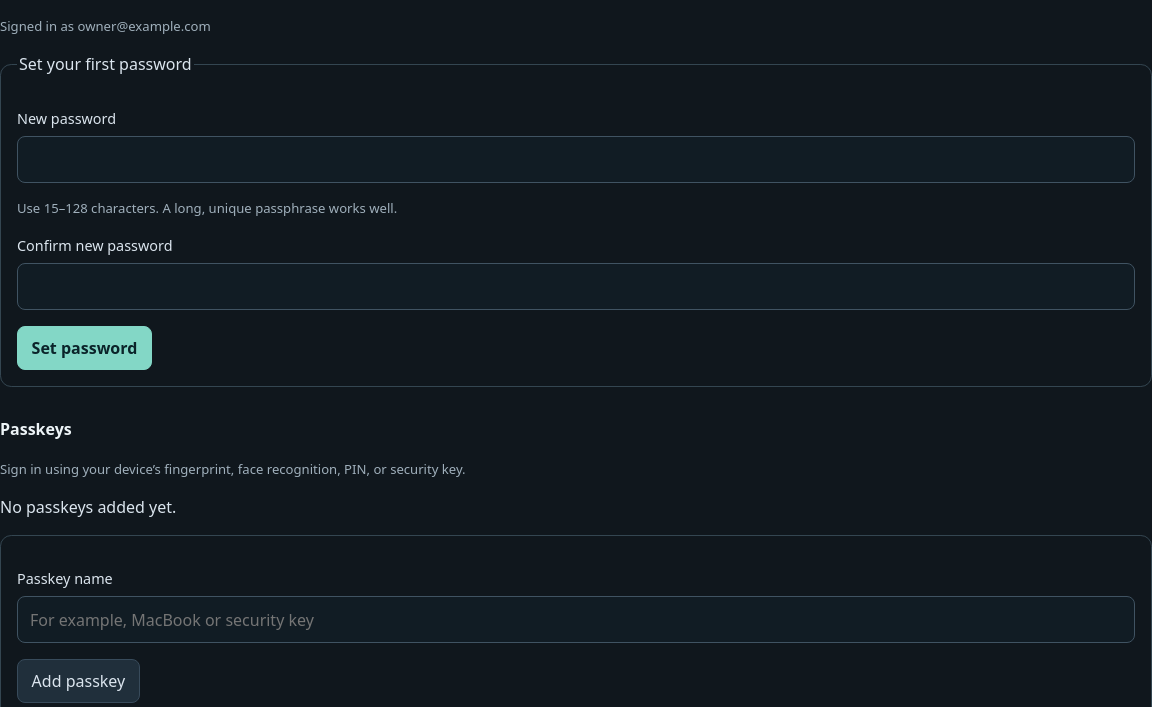
it: account security › checks freshness immediately before invoking the browser's passkey enrollment
(page scrolled)
Type "MacBook" into the field labelled "Passkey name".
click(576, 620); type("MacBook")  # box [17,596,1135,643]
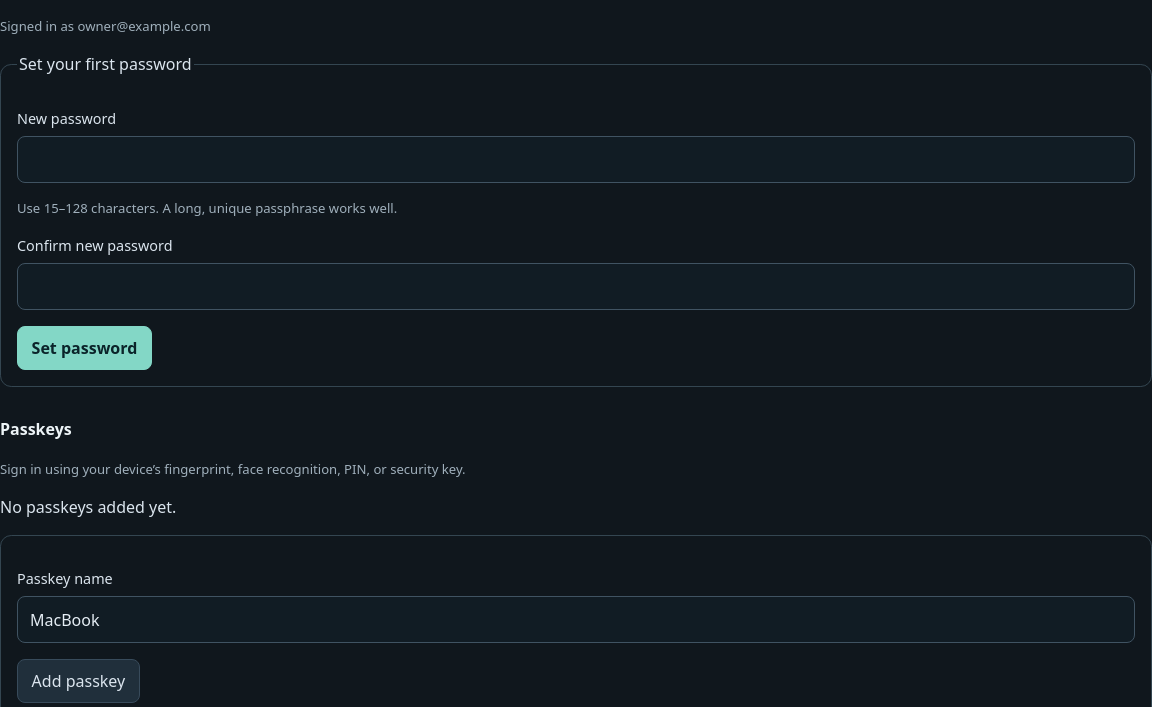
Click the button "Add passkey".
click(78, 681)  # box [17,659,140,703]
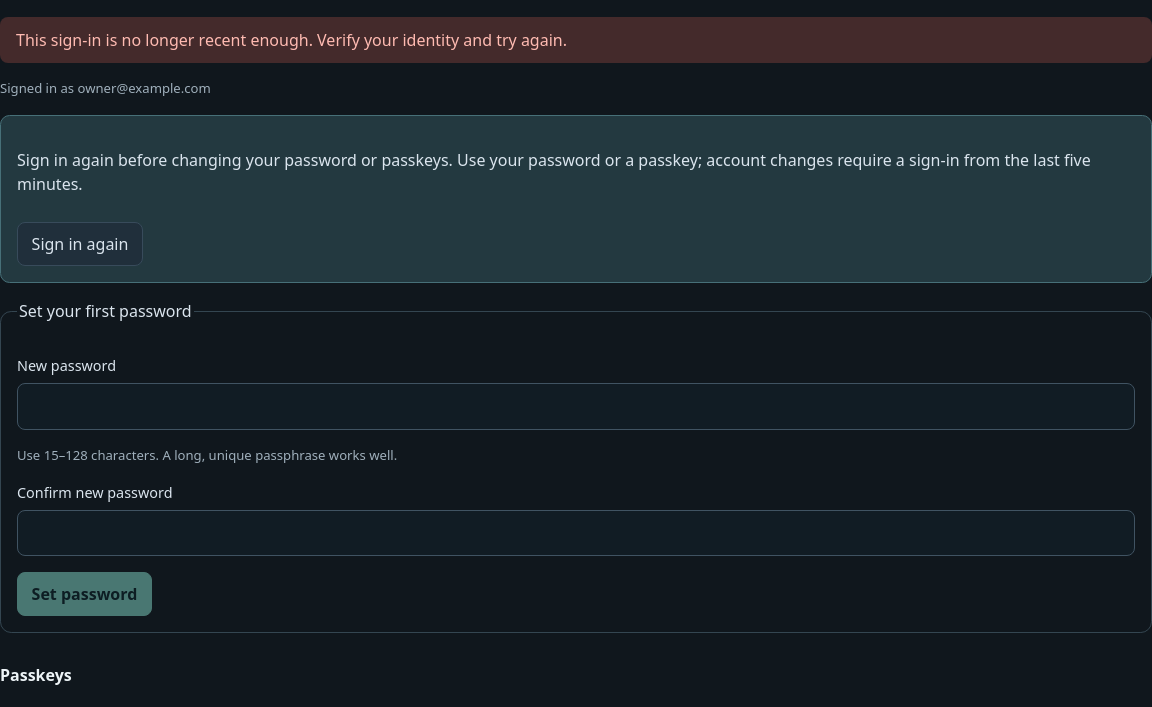
Check: the text "Sign in again before changing" is shown, box [17,149,1091,195]
